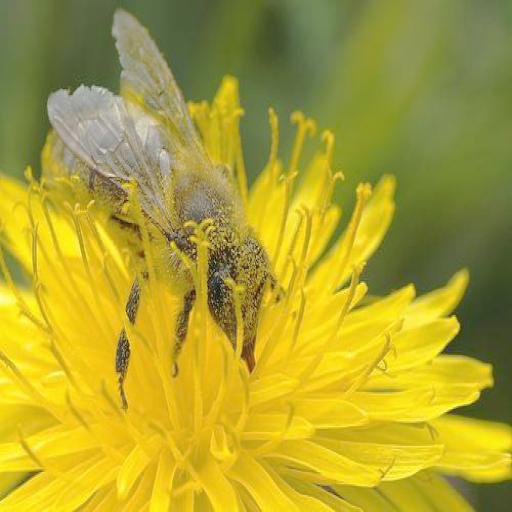daisy: (5, 0, 508, 512)
